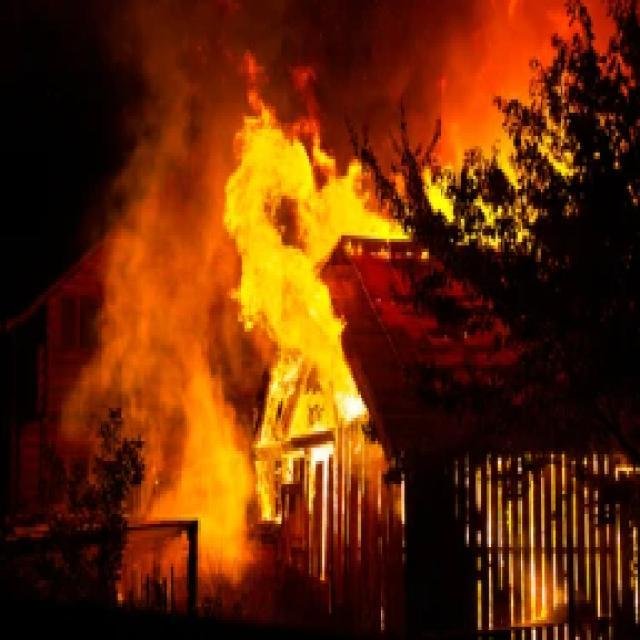Fire: (229, 56, 582, 524), (147, 368, 260, 581)
Smoke: (59, 0, 264, 475)
